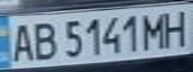1: (81, 15, 106, 56), (118, 11, 142, 52)
4: (100, 14, 124, 54)
5: (60, 16, 84, 58)
A: (6, 19, 39, 63)
B: (27, 19, 60, 62)
H: (160, 7, 190, 48)
M: (139, 9, 172, 51)
